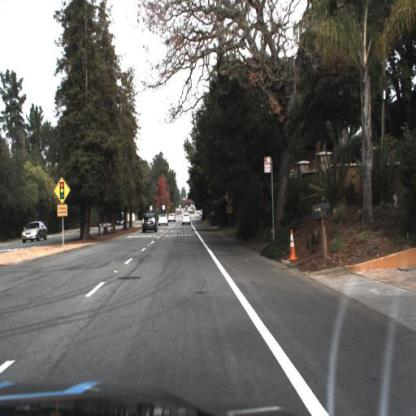car: (22, 221, 49, 247), (141, 212, 161, 238), (181, 209, 194, 229), (158, 211, 172, 229), (167, 211, 177, 226)
